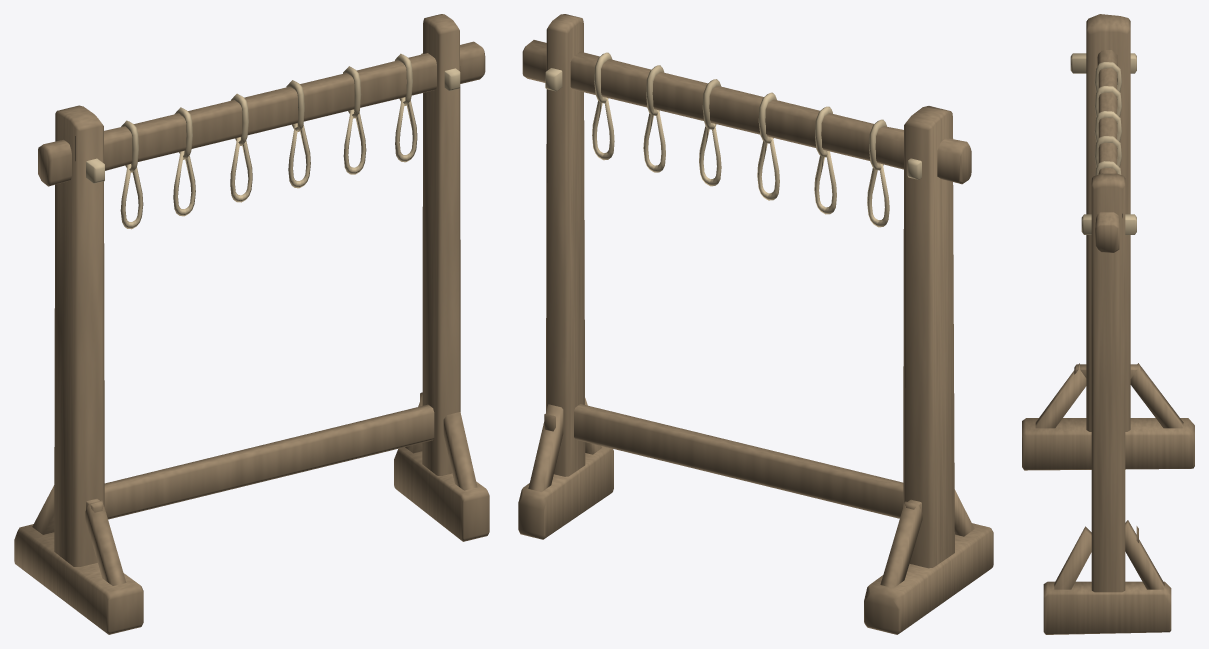
Rendered from drying_rack.fbx.
The picture shows the model from 3 angles, left to right: view 1: azimuth 30°, elevation 25°; view 2: azimuth 150°, elevation 25°; view 3: azimuth 270°, elevation 25°; orthographic projection. The views are drawn at different scales.
Visible parts, largest first — view 1: drying_rack; view 2: drying_rack; view 3: drying_rack.
Boxes of the visible parts, x1,y1,x2,y2 form: drying_rack: (14,14,489,634); drying_rack: (518,14,993,634); drying_rack: (1022,14,1194,634).
Size of the model in its own units: 1.2 by 1.3 by 0.45.
Materials: 1 (1 with a texture image).
